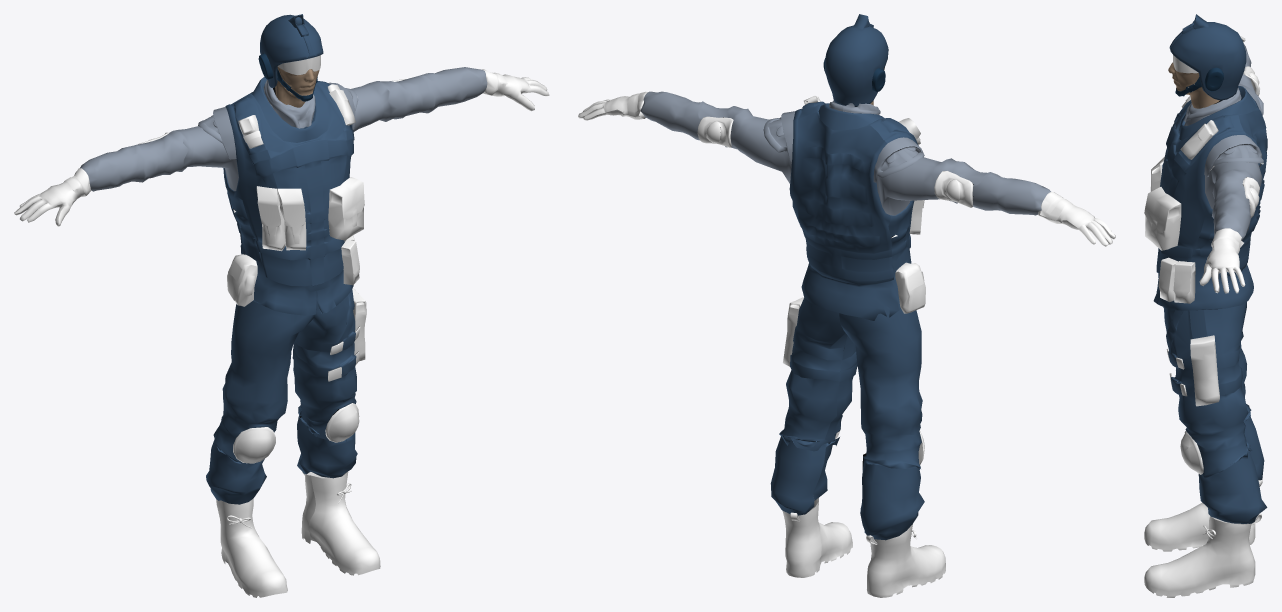
The model's file is enemy.fbx.
3 renders of one model, left to right at view 1: azimuth 30°, elevation 25°; view 2: azimuth 150°, elevation 25°; view 3: azimuth 270°, elevation 25°, orthographic.
Visible parts, largest first — view 1: polySurface18; view 2: polySurface18; view 3: polySurface18.
Boxes of the visible parts, x1=… form: polySurface18: x1=14, y1=14, x2=549, y2=597; polySurface18: x1=578, y1=14, x2=1115, y2=597; polySurface18: x1=1144, y1=14, x2=1267, y2=597.
Bounding box in the file's own units: 191 × 192 × 39.04.
